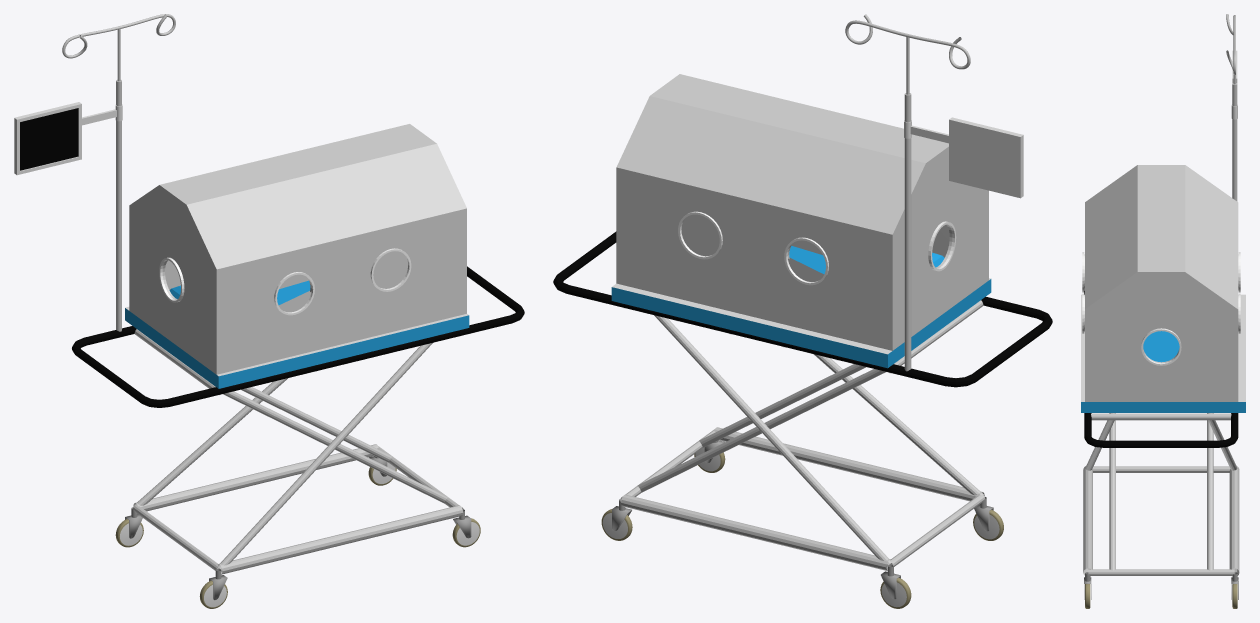
3 renders of one model, left to right at view 1: azimuth 30°, elevation 25°; view 2: azimuth 150°, elevation 25°; view 3: azimuth 270°, elevation 25°, orthographic. The views are drawn at different scales.
Parts seen in each view (by area): view 1: CL-6; view 2: CL-6; view 3: CL-6.
Boxes of the visible parts, box(x1,y1,x2,y2) form: CL-6: box(14, 14, 524, 608); CL-6: box(553, 14, 1052, 608); CL-6: box(1081, 14, 1245, 608).
Bounding box in the file's own units: 179 × 209 × 67.52.
